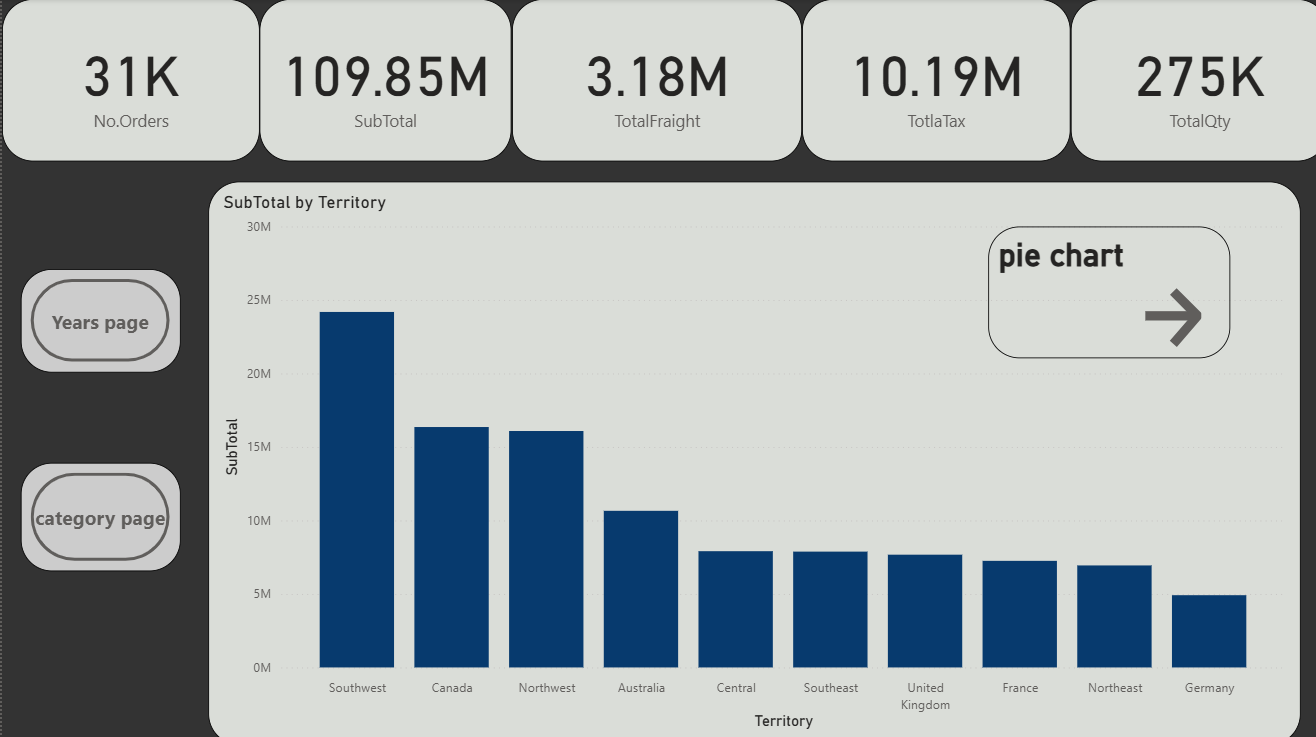

Layout of this report page (visuals, bound fields, positions):
{"tool":"powerbi","page":{"name":"Territory","canvas":[1280,720],"ordinal":2},"visuals":[{"type":"columnChart","fields":{"Y":["measuresTable.SubTotal"],"Category":["vw_DimTerritories.Territory"]},"box":[199.3,175.8,1054.6,543.6],"z":0},{"type":"actionButton","title":"pie chart","box":[951.3,219.3,233.8,126.8],"z":3000},{"type":"card","fields":{"Values":["measuresTable.No.Orders"]},"box":[0,0,248.9,156.4],"z":4000},{"type":"card","fields":{"Values":["measuresTable.SubTotal"]},"box":[248.9,0,243.2,156.4],"z":5000},{"type":"card","fields":{"Values":["measuresTable.TotalFraight"]},"box":[492.1,0,280.2,156.4],"z":6000},{"type":"card","fields":{"Values":["measuresTable.TotlaTax"]},"box":[772.3,0,258.8,156.4],"z":7000},{"type":"card","fields":{"Values":["measuresTable.TotalQty"]},"box":[1031.1,0,248.9,156.4],"z":8000},{"type":"actionButton","box":[18.1,260.9,154,99.7],"z":9000},{"type":"actionButton","box":[18.1,447.6,154,105.1],"z":10000}]}

Visuals, with their boxes in screenshot pixels (x1, y1, x2, y2), scaled from the page's 1280x720 canvas onto the 1316x737 screenshot:
columnChart - measuresTable.SubTotal x vw_DimTerritories.Territory: <region>205, 180, 1289, 736</region>
"pie chart" actionButton: <region>978, 224, 1218, 354</region>
card - measuresTable.No.Orders: <region>0, 0, 256, 160</region>
card - measuresTable.SubTotal: <region>256, 0, 506, 160</region>
card - measuresTable.TotalFraight: <region>506, 0, 794, 160</region>
card - measuresTable.TotlaTax: <region>794, 0, 1060, 160</region>
card - measuresTable.TotalQty: <region>1060, 0, 1315, 160</region>
actionButton: <region>19, 267, 177, 369</region>
actionButton: <region>19, 458, 177, 566</region>
